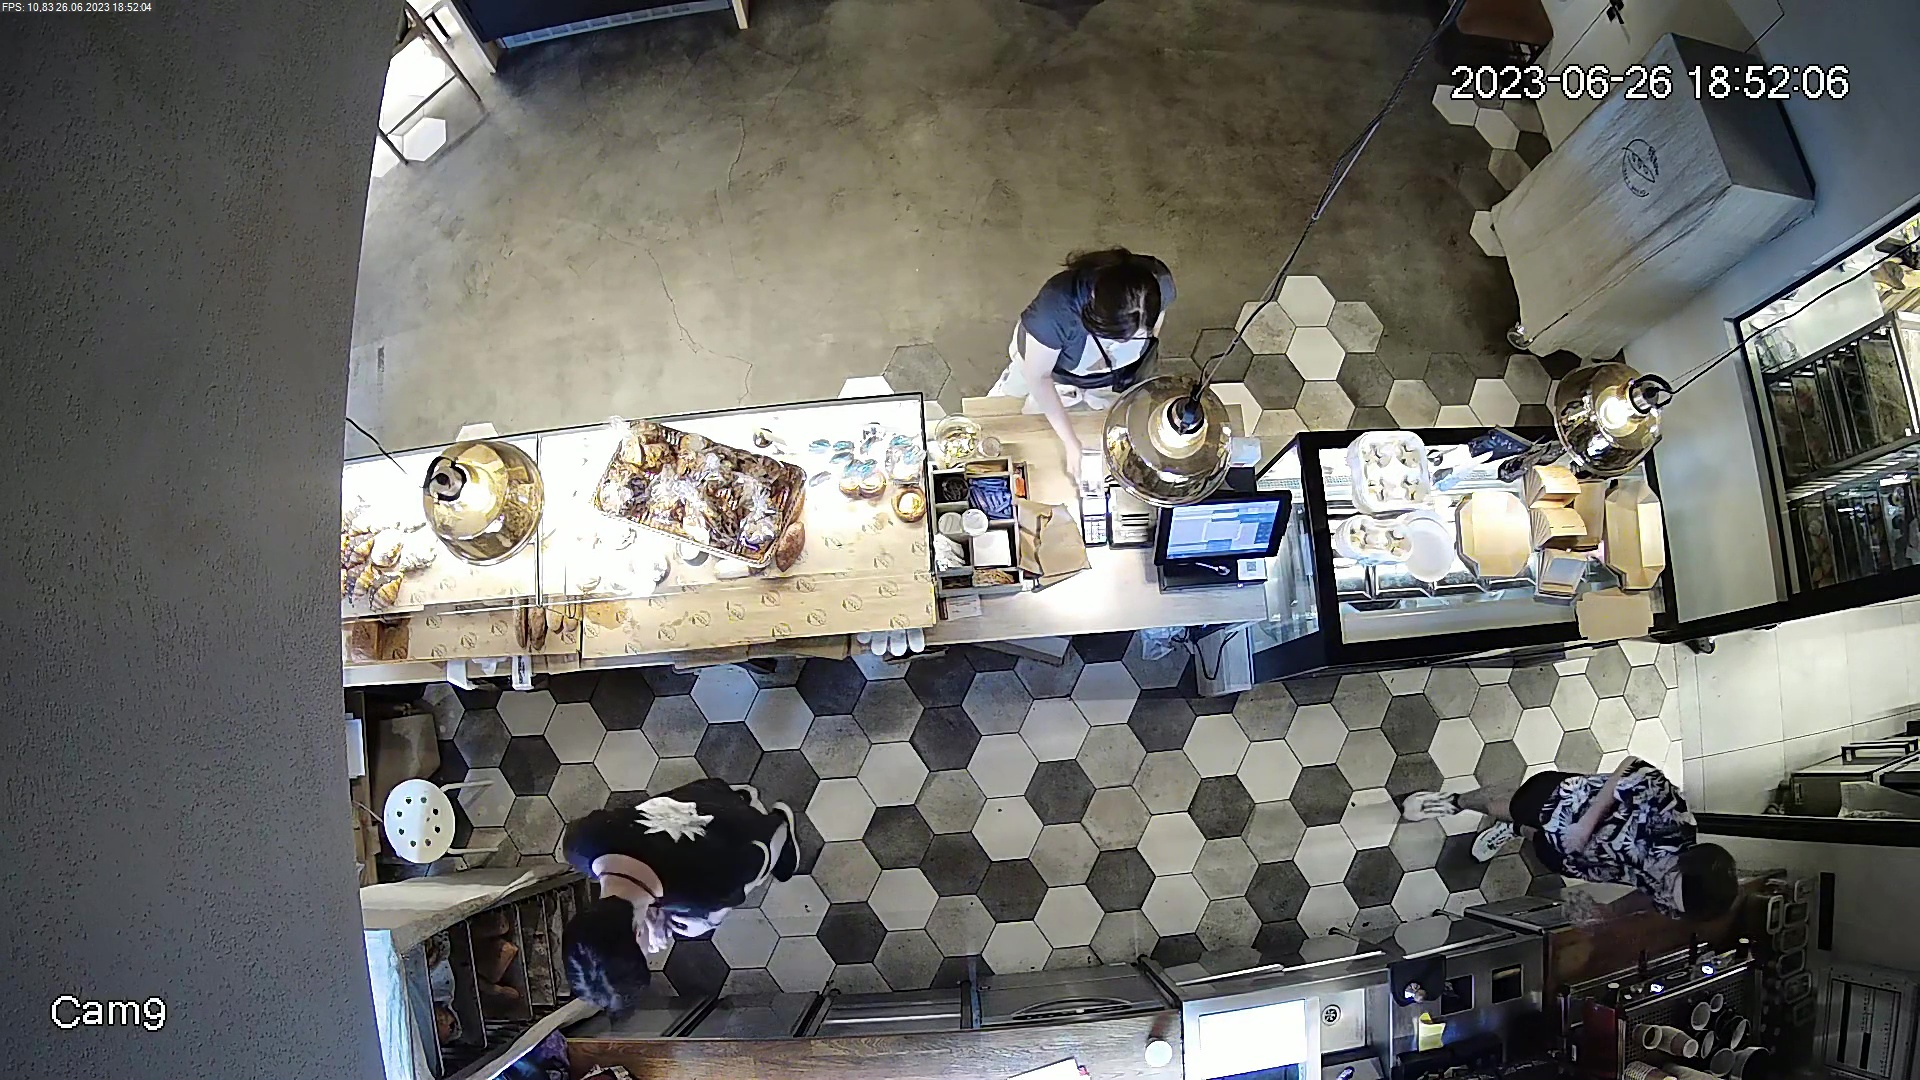pack: (1011, 503, 1091, 592)
person: (965, 232, 1206, 398)
terminal: (1065, 449, 1110, 541)
